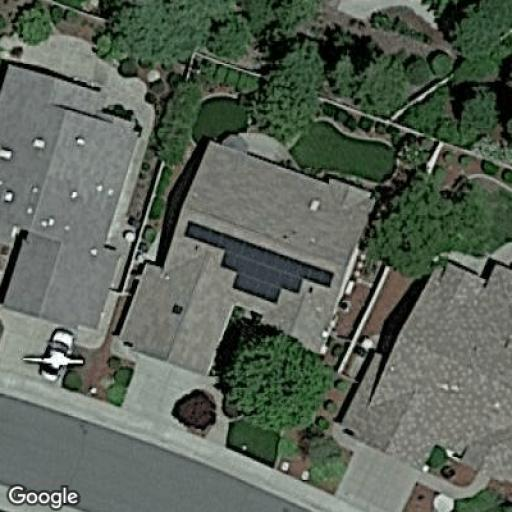solar-panel: (182, 219, 336, 305)
